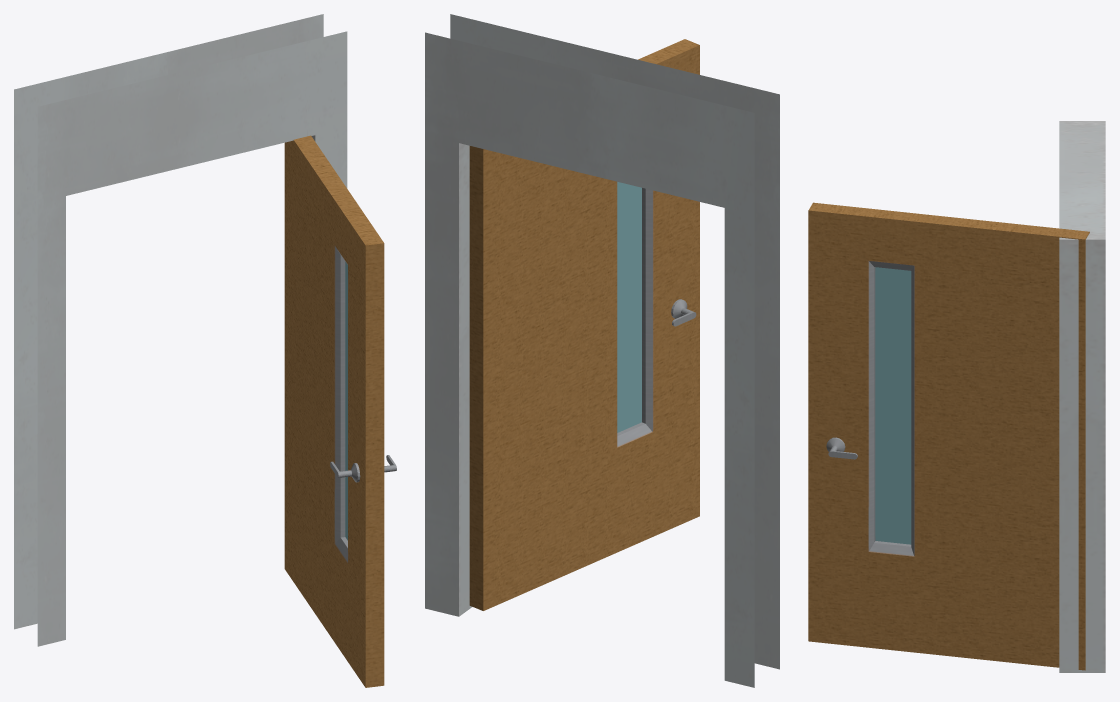
The model's file is interior_door_1_open.gltf.
3 renders of one model, left to right at view 1: azimuth 30°, elevation 25°; view 2: azimuth 150°, elevation 25°; view 3: azimuth 270°, elevation 25°, orthographic. The views are drawn at different scales.
Parts seen in each view (by area): view 1: Cube.002; view 2: Cube.002; view 3: Cube.002.
Boxes of the visible parts, x1=… form: Cube.002: x1=14, y1=14, x2=396, y2=687; Cube.002: x1=425, y1=14, x2=779, y2=687; Cube.002: x1=808, y1=121, x2=1105, y2=672.
Size of the model in its own units: 3.03 by 5.05 by 2.58.
Materials: 2 (2 with a texture image).
